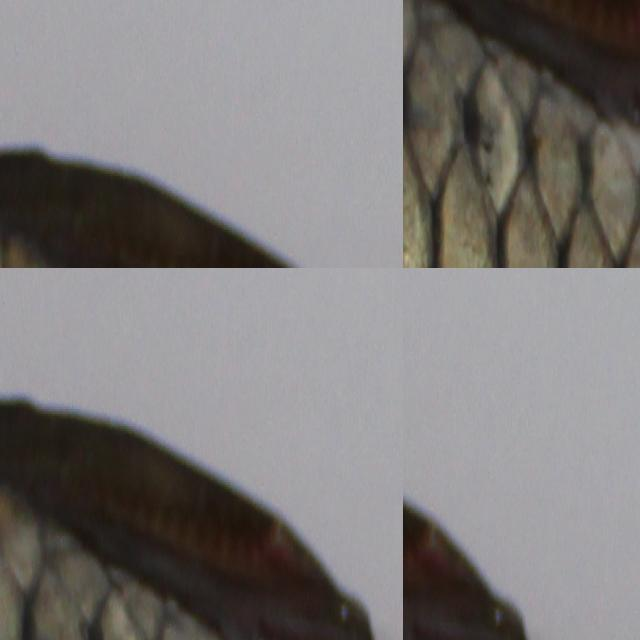fish: (403, 268, 640, 640)
